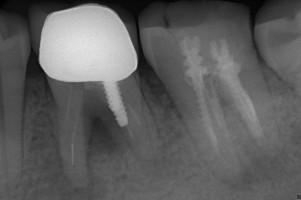Dental Caries: (42, 119, 119, 200)
Furcation Involvement: (229, 150, 290, 191)
